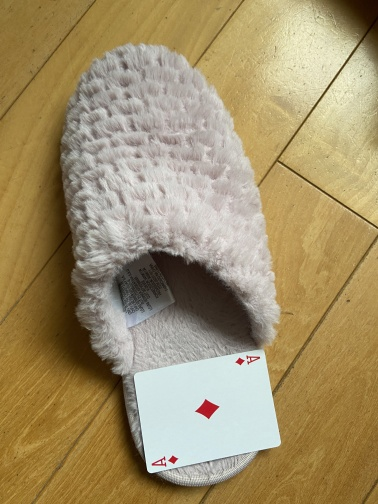ace: (132, 347, 284, 475)
